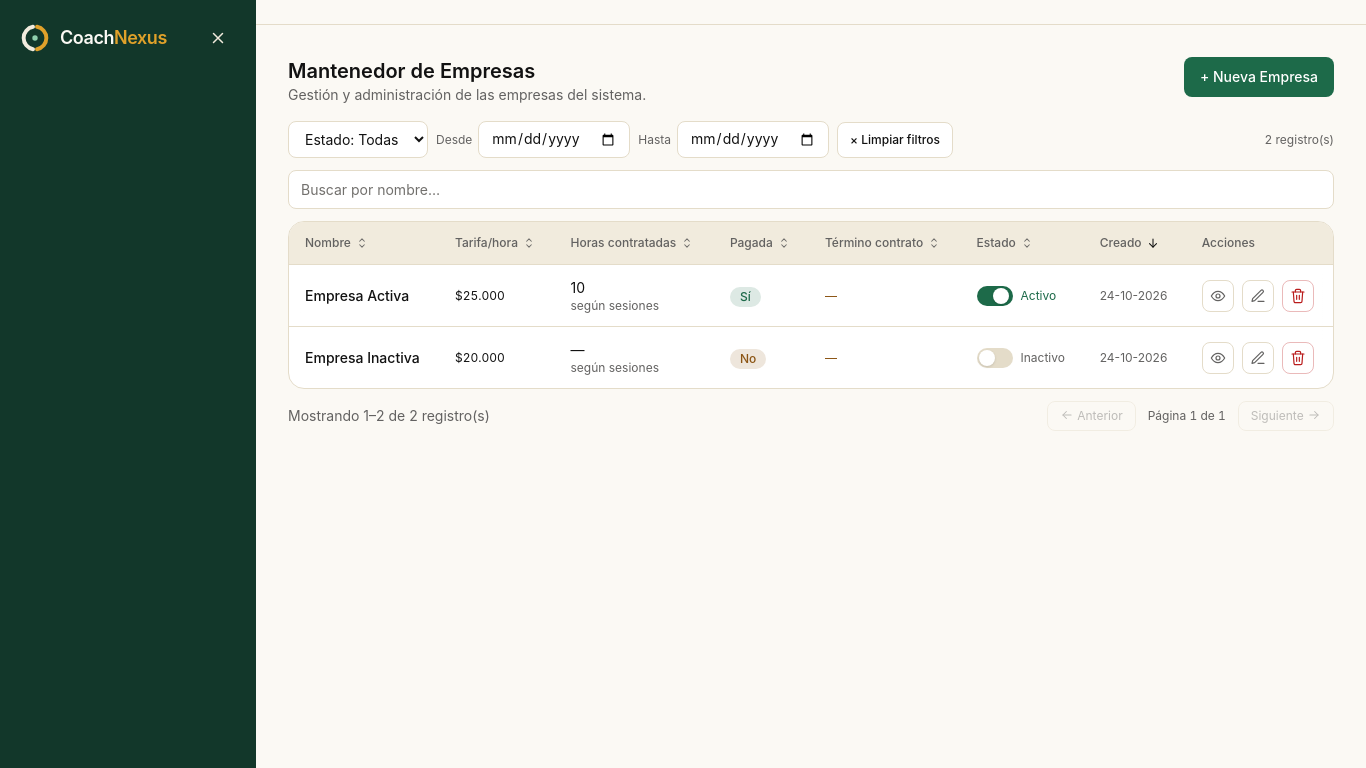
Test: EmpresasView › shows validation errors instead of submitting an invalid empresa
Click the button "+ Nueva Empresa" at (1259, 77), box [1184, 57, 1334, 97]
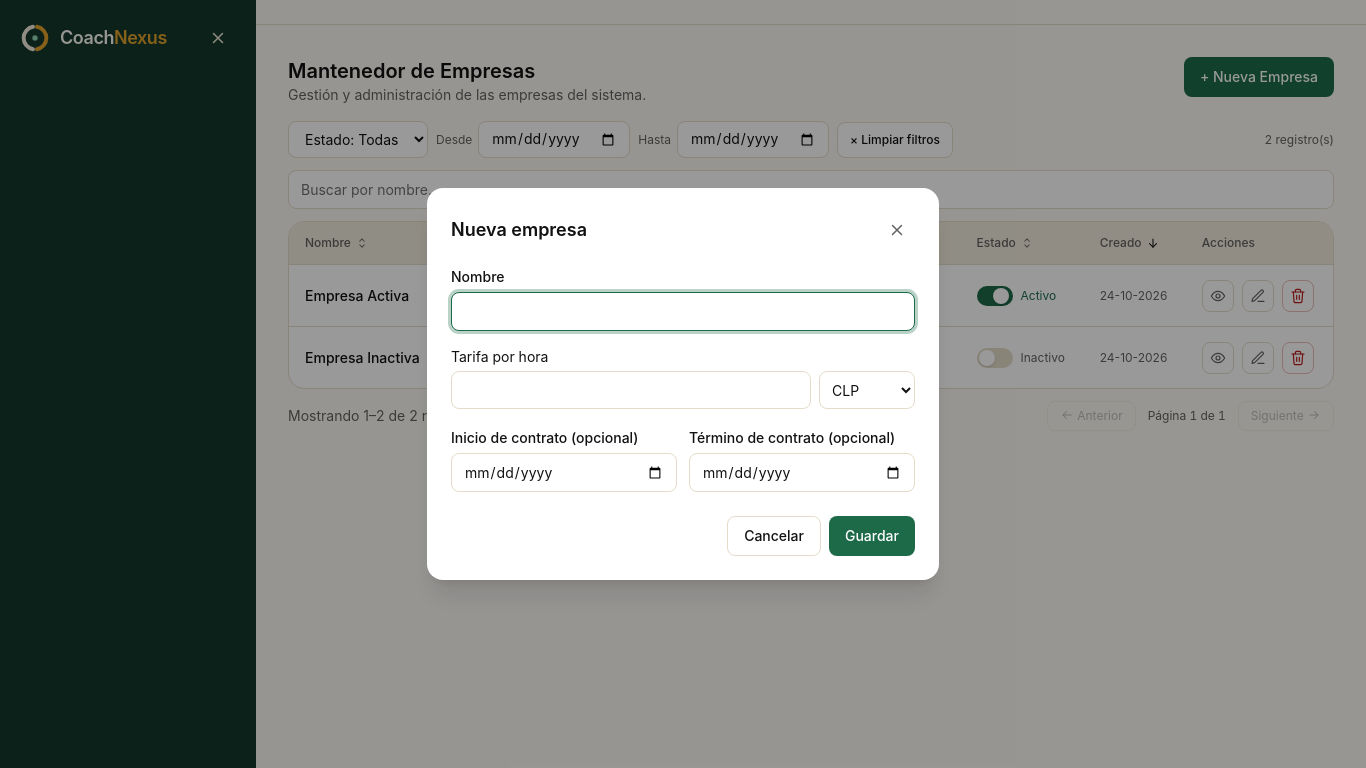
Submit the form, box [451, 264, 915, 556]
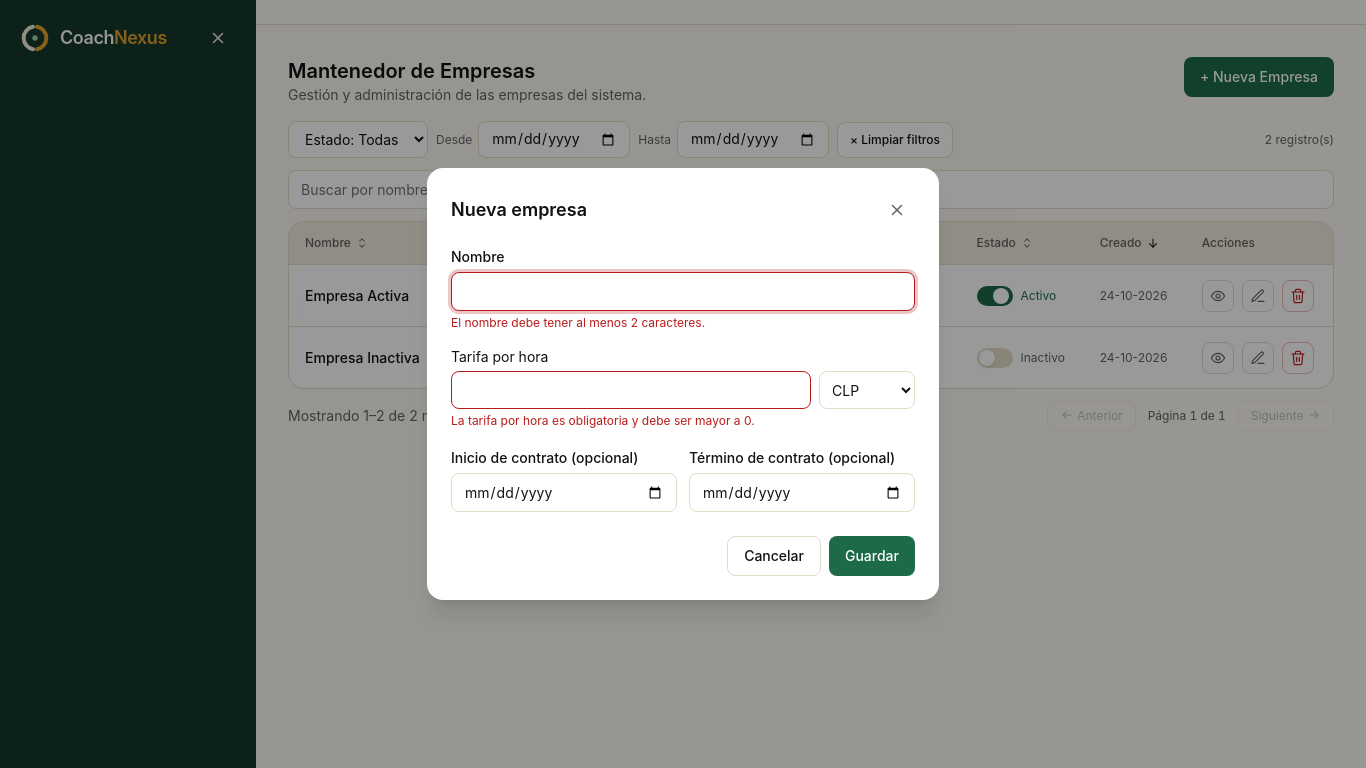
Expected: the text "El nombre debe tener al menos 2 caracteres." is shown, [451, 315, 705, 330]
